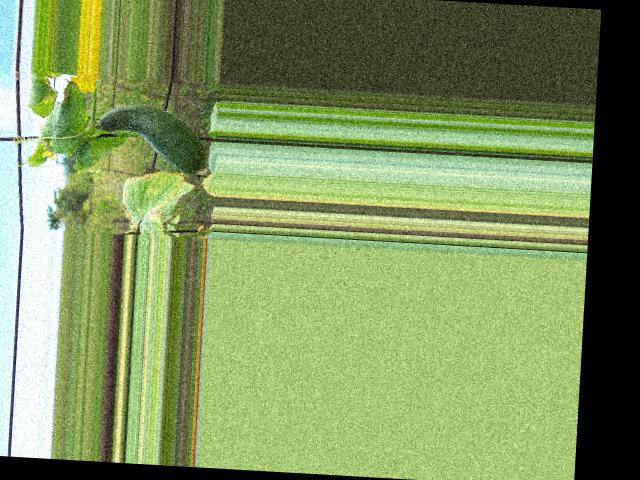cucumber: (95, 102, 208, 175)
